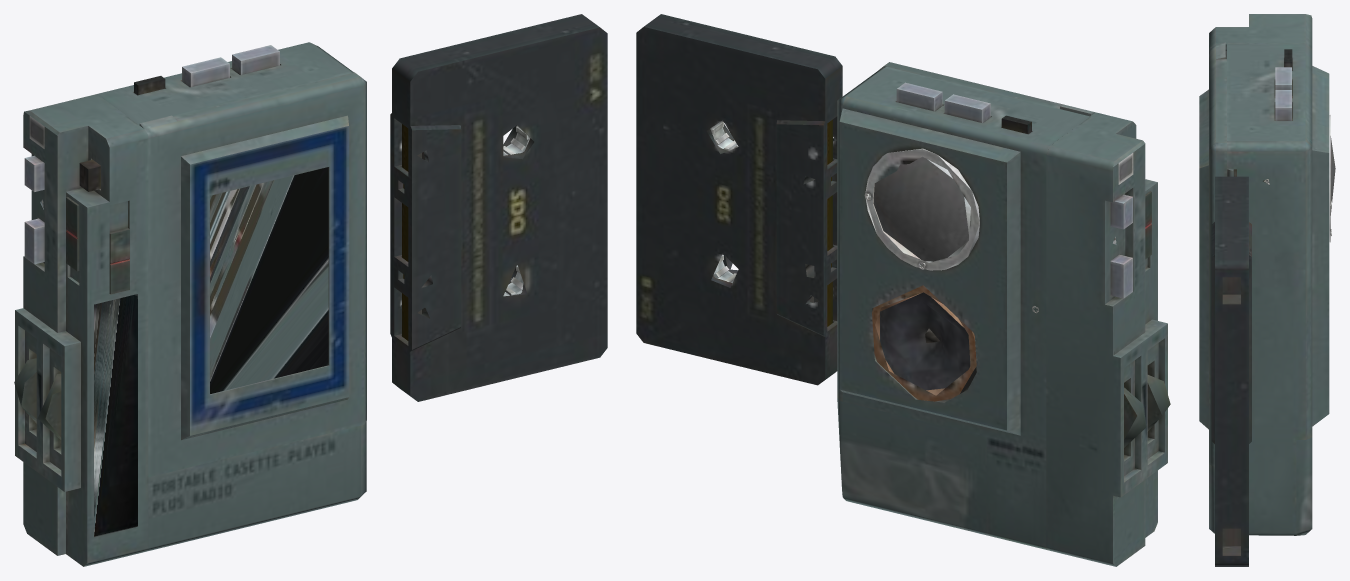
The model's file is portable_cassette_player.glb.
3 renders of one model, left to right at view 1: azimuth 30°, elevation 25°; view 2: azimuth 150°, elevation 25°; view 3: azimuth 270°, elevation 25°, orthographic. The views are drawn at different scales.
Visible parts, largest first — view 1: portable_cassette_player, portable_cassette_player_glass; view 2: portable_cassette_player; view 3: portable_cassette_player.
Part boxes in pixels (<box>): portable_cassette_player: <box>14,14,607,566</box>; portable_cassette_player_glass: <box>94,167,328,537</box>; portable_cassette_player: <box>636,14,1170,566</box>; portable_cassette_player: <box>1199,14,1335,566</box>.
Size of the model in its own units: 0.1723 by 0.1303 by 0.0396.
2 materials, 2 textured.
